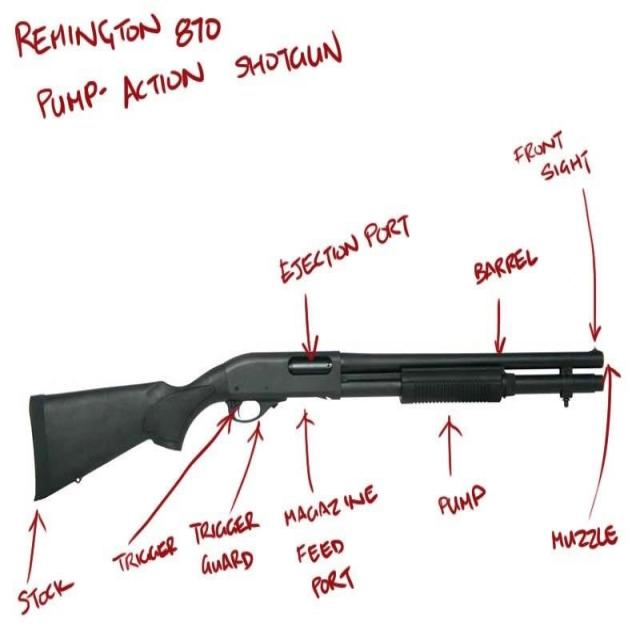ShotGun: (30, 350, 609, 502)
